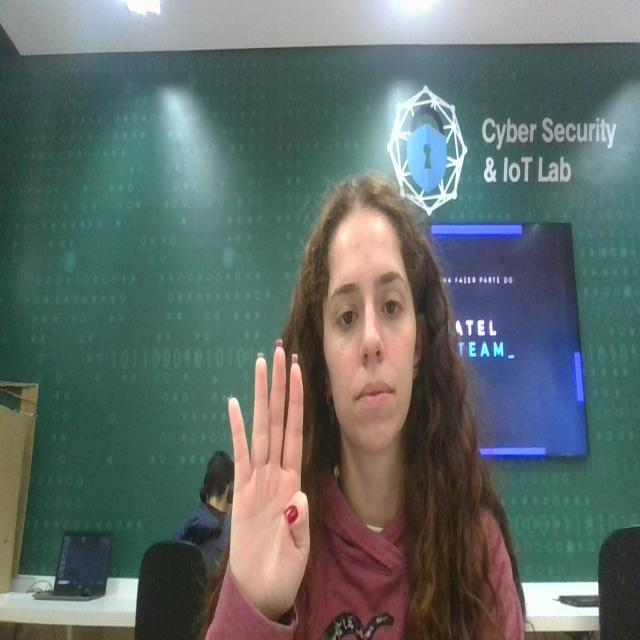B: (216, 338, 320, 620)
